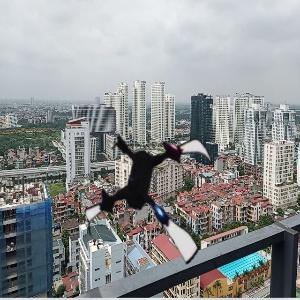drone: (77, 120, 231, 274)
